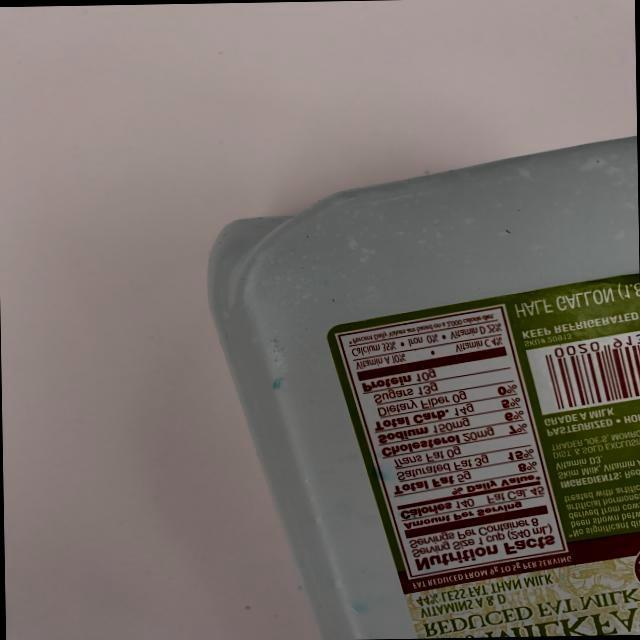plastic: (178, 117, 640, 640)
